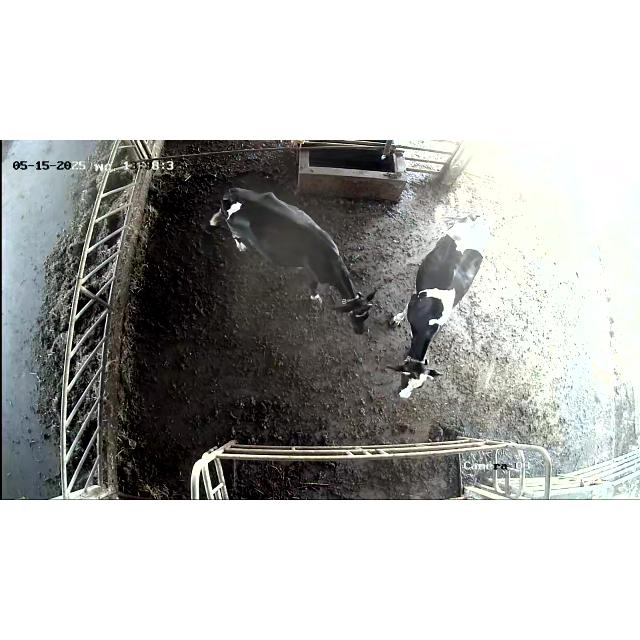stand: (202, 185, 376, 338), (384, 224, 486, 406)
